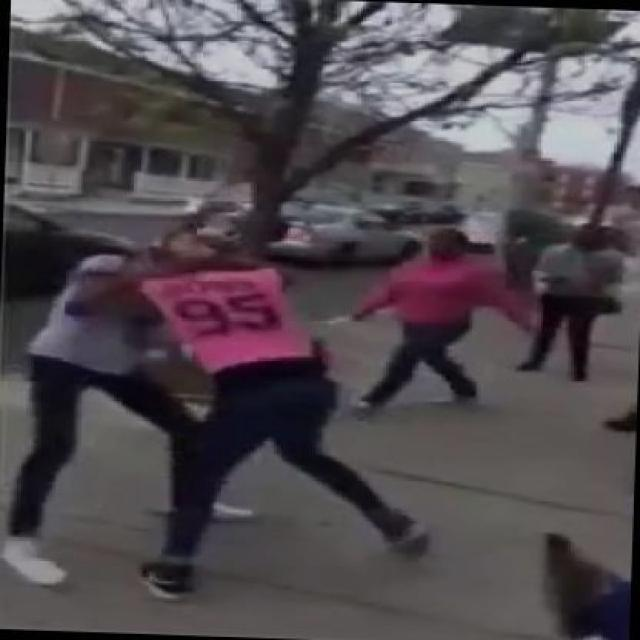fight: (0, 220, 426, 595)
non-fight: (347, 213, 533, 416)
